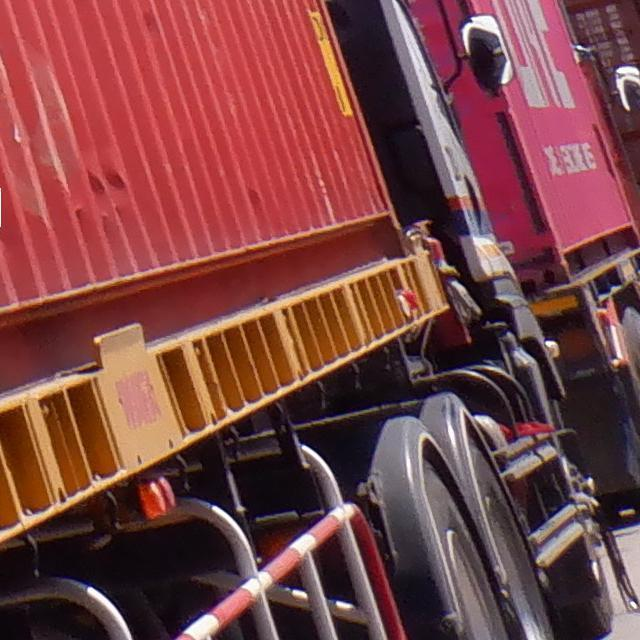dent: (81, 148, 143, 214)
